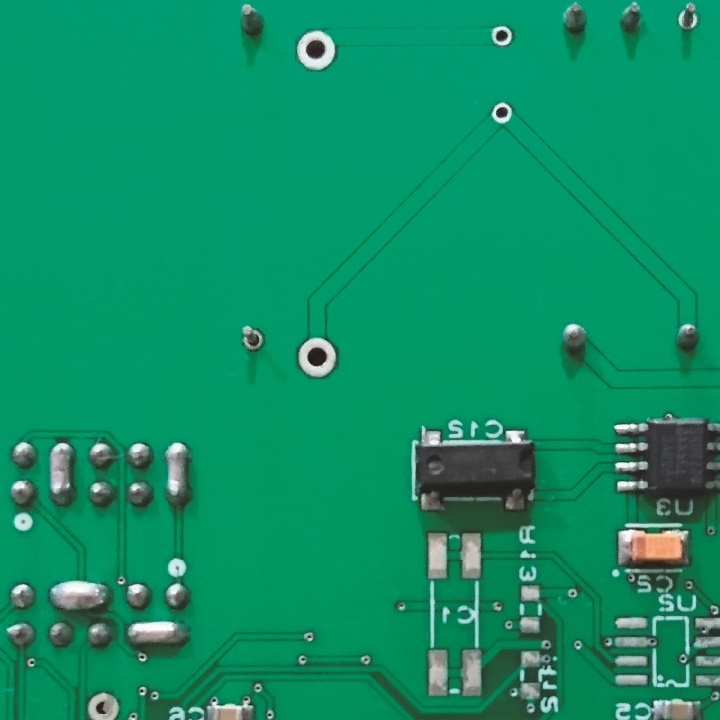F: (293, 28, 340, 75), (294, 335, 340, 380), (84, 690, 122, 720), (675, 1, 704, 40), (236, 320, 272, 351), (490, 99, 515, 129), (489, 20, 512, 51)
P: (123, 617, 192, 654), (48, 579, 116, 615), (45, 438, 76, 506), (164, 440, 193, 512)
